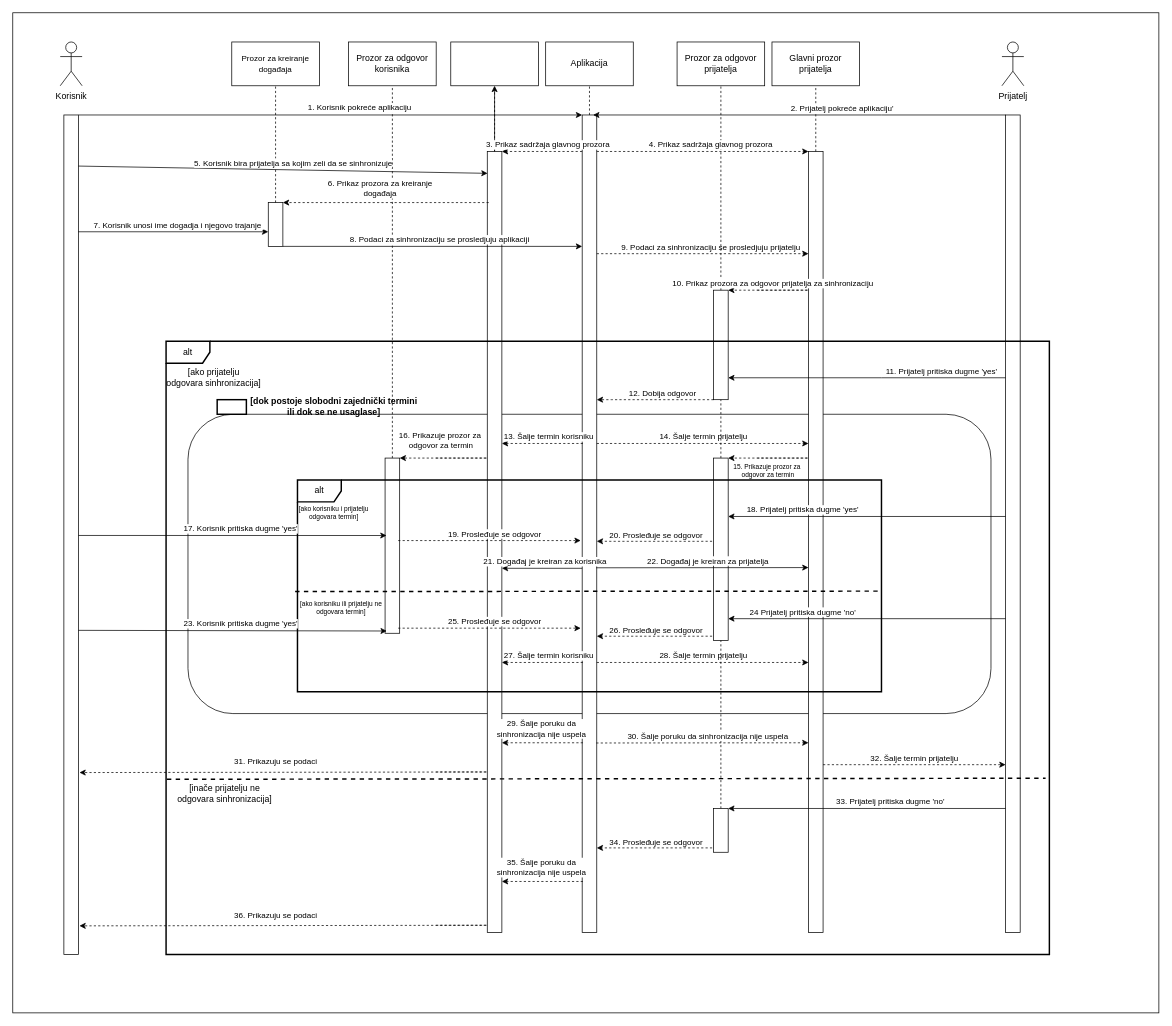
This 1172x1026 diagram has some shape labels left out. Here are the shapes that lost their labels. From the top down, the centre of each, then its label:
(494,63): Glavni prozor korisnika
(231,407): loop
